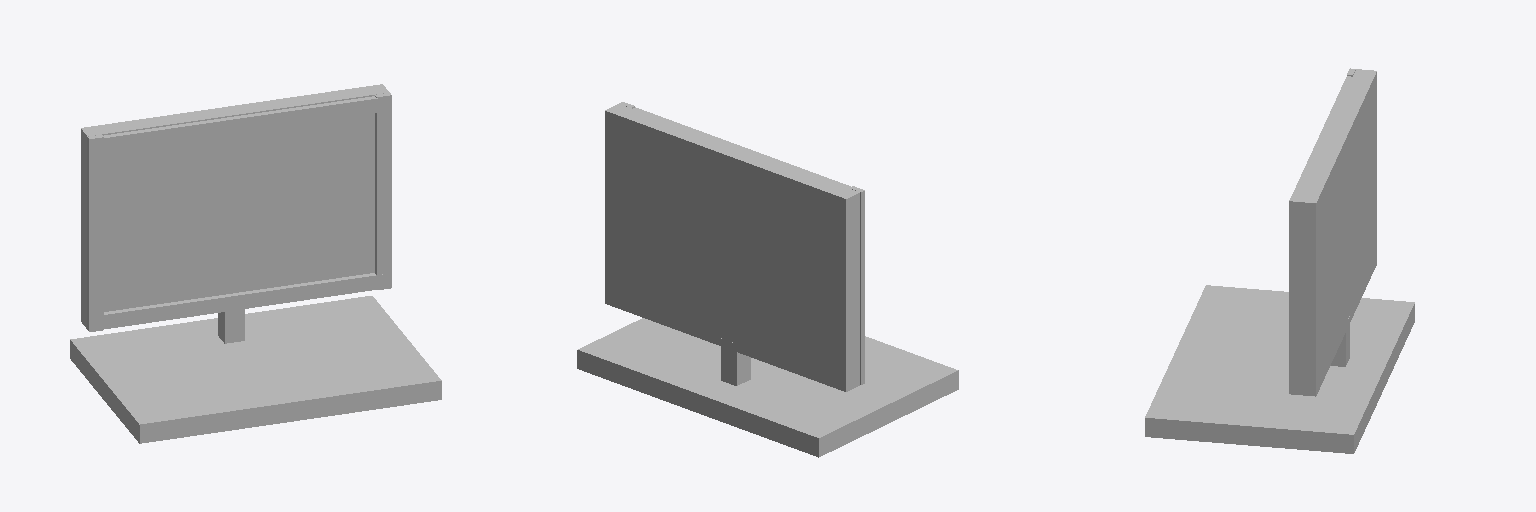
Rendered from Computer-Merged.obj.
3 renders of one model, left to right at view 1: azimuth 30°, elevation 25°; view 2: azimuth 150°, elevation 25°; view 3: azimuth 270°, elevation 25°, orthographic.
Visible parts, largest first — view 1: Computer-Merged; view 2: Computer-Merged; view 3: Computer-Merged.
Boxes of the visible parts, box(x1,y1,x2,y2) form: Computer-Merged: box(70, 84, 441, 443); Computer-Merged: box(577, 102, 958, 457); Computer-Merged: box(1145, 68, 1414, 453).
Bounding box in the file's own units: 1.66 × 1.28 × 1.27.